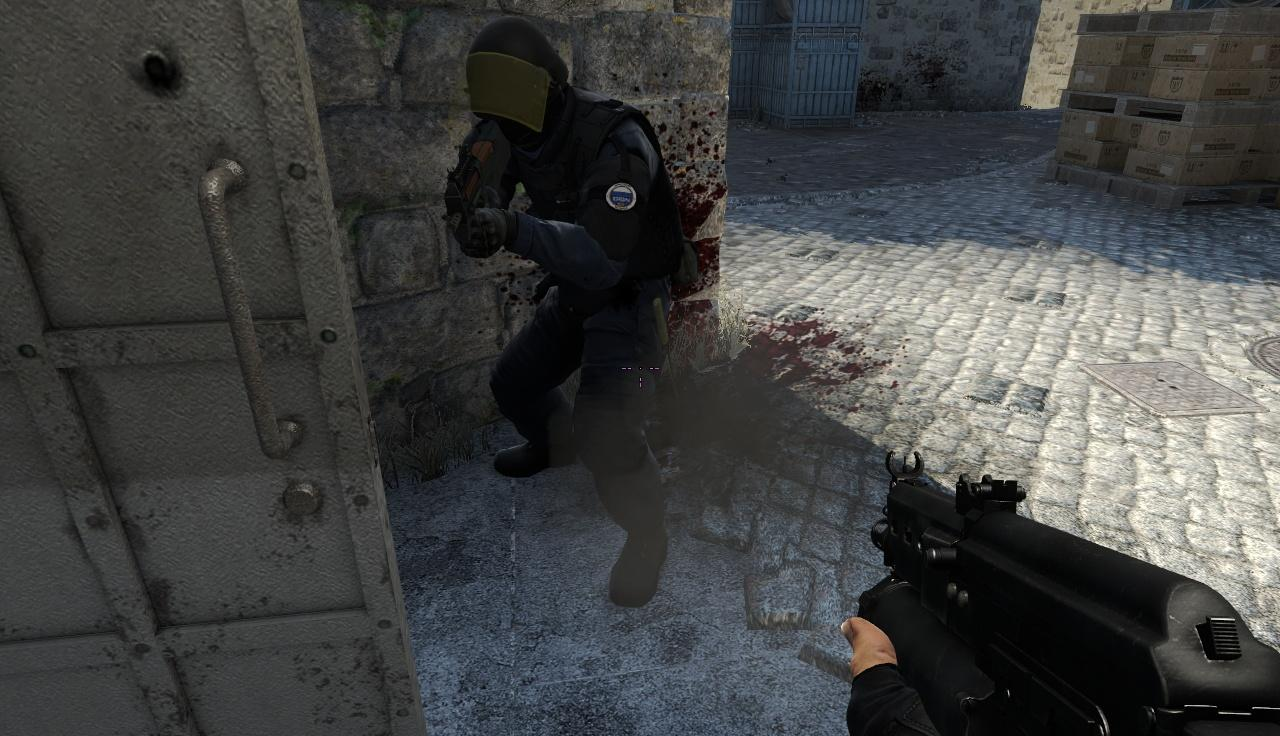ct: (461, 22, 650, 493)
cthead: (466, 19, 568, 130)
rifle: (869, 443, 1280, 732)
